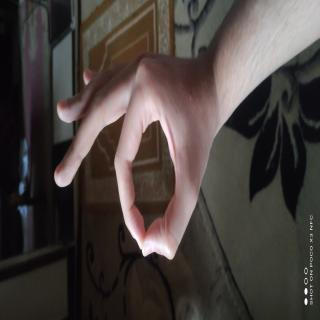Space: (22, 109, 125, 320)
